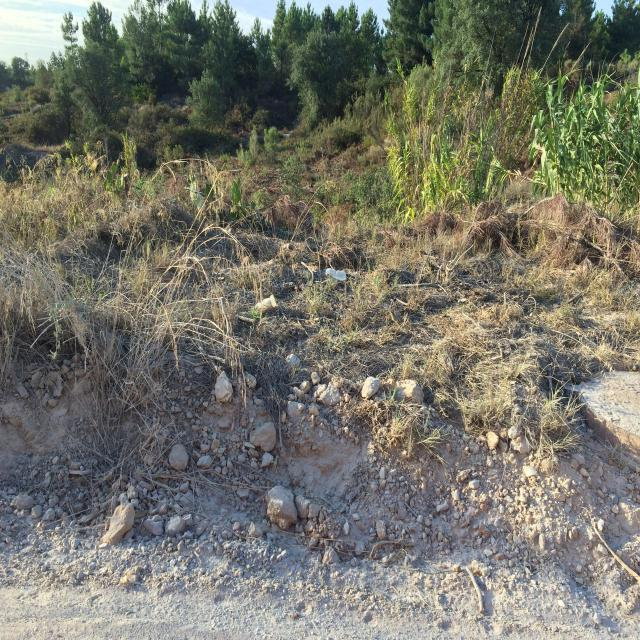litter: (324, 263, 347, 283)
